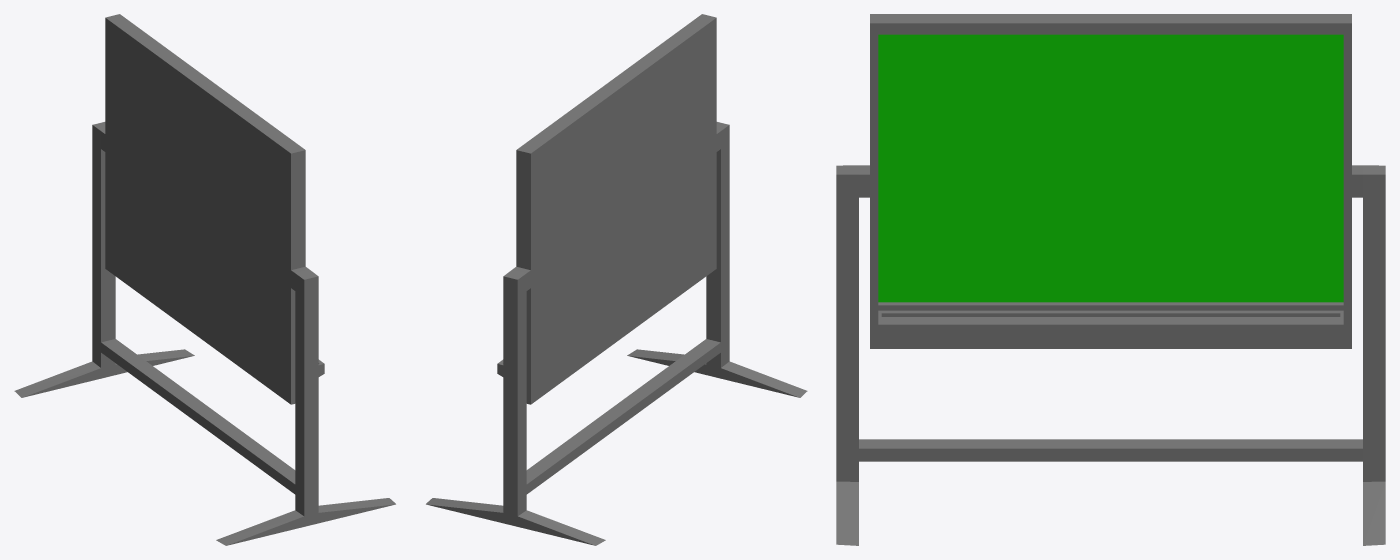
File: SM_TableauPuzzleFiole.fbx
3 views of the same model, side by side, from view 1: azimuth 30°, elevation 25°; view 2: azimuth 150°, elevation 25°; view 3: azimuth 270°, elevation 25° (orthographic). The views are drawn at different scales.
Visible parts, largest first — view 1: pCube1; view 2: pCube1; view 3: pCube1.
Boxes of the visible parts, bbox=[...] form: pCube1: bbox=[14, 14, 395, 545]; pCube1: bbox=[426, 14, 807, 545]; pCube1: bbox=[836, 14, 1385, 545].
Size of the model in its own units: 85.52 by 171 by 181.
